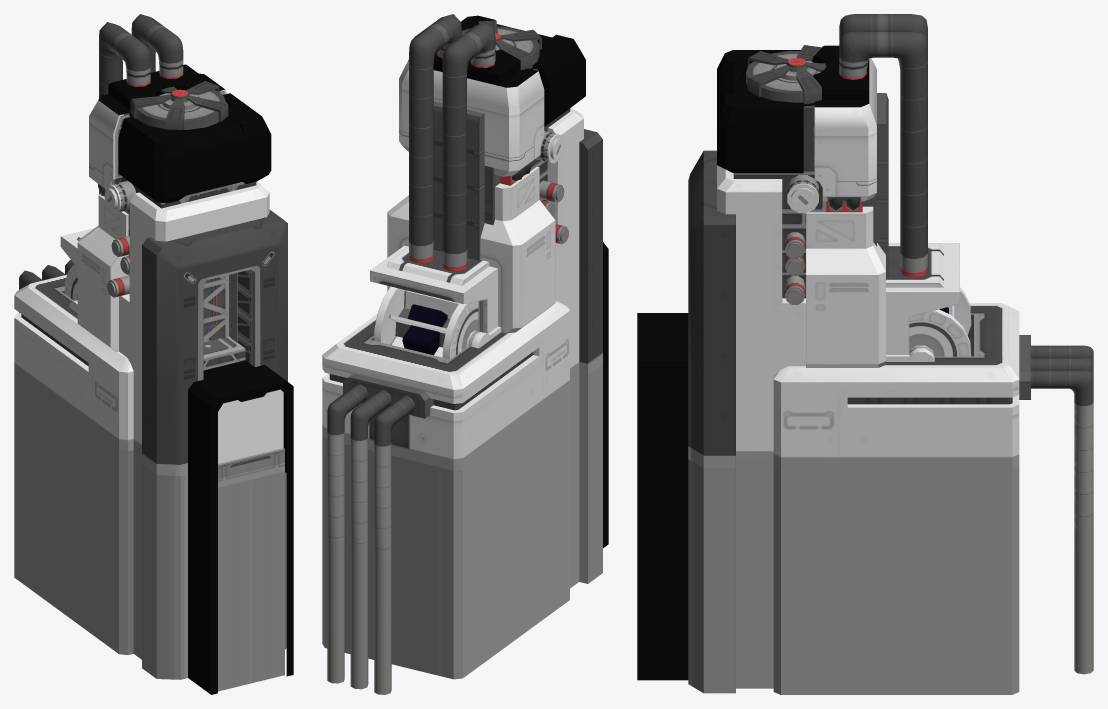
The model's file is water-pump.glb.
3 renders of one model, left to right at view 1: azimuth 30°, elevation 25°; view 2: azimuth 150°, elevation 25°; view 3: azimuth 270°, elevation 25°, orthographic. The views are drawn at different scales.
Visible parts, largest first — view 1: water-pump, water-pump-j, water-pump-i, water-pump-h; view 2: water-pump, water-pump-a, water-pump-h, water-pump-j, water-pump-d; view 3: water-pump, water-pump-a, water-pump-j, water-pump-h.
Part boxes in pixels (<box>): water-pump: <box>14,14,293,694</box>; water-pump-j: <box>136,90,226,129</box>; water-pump-i: <box>203,336,245,370</box>; water-pump-h: <box>104,180,135,213</box>; water-pump: <box>322,14,608,694</box>; water-pump-a: <box>374,286,478,359</box>; water-pump-h: <box>536,131,564,163</box>; water-pump-j: <box>462,26,539,64</box>; water-pump-d: <box>539,180,564,202</box>; water-pump: <box>637,14,1093,694</box>; water-pump-a: <box>909,287,971,356</box>; water-pump-j: <box>746,51,820,102</box>; water-pump-h: <box>787,175,818,212</box>.
Bounding box in the file's own units: 2.46 × 9.59 × 6.25.
Materials: 2 (1 with a texture image).
